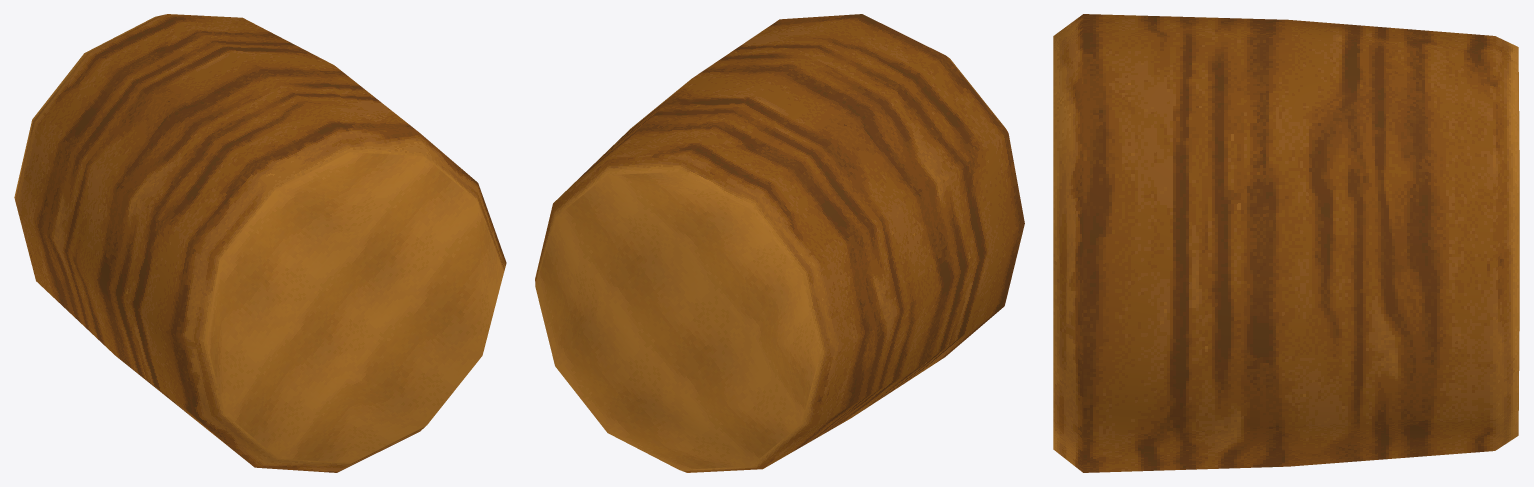
Rendered from SM_AP_Pillar_18m_0.glb.
3 views of the same model, side by side, from view 1: azimuth 30°, elevation 25°; view 2: azimuth 150°, elevation 25°; view 3: azimuth 270°, elevation 25° (orthographic). The views are drawn at different scales.
Visible parts, largest first — view 1: SM_AP_Pillar_18m_0; view 2: SM_AP_Pillar_18m_0; view 3: SM_AP_Pillar_18m_0.
Boxes of the visible parts, x1,y1,x2,y2 form: SM_AP_Pillar_18m_0: (14, 14, 506, 472); SM_AP_Pillar_18m_0: (535, 14, 1024, 472); SM_AP_Pillar_18m_0: (1053, 14, 1519, 472).
Bounding box in the file's own units: 18.28 × 18.26 × 18.69.
Materials: 1 (1 with a texture image).
